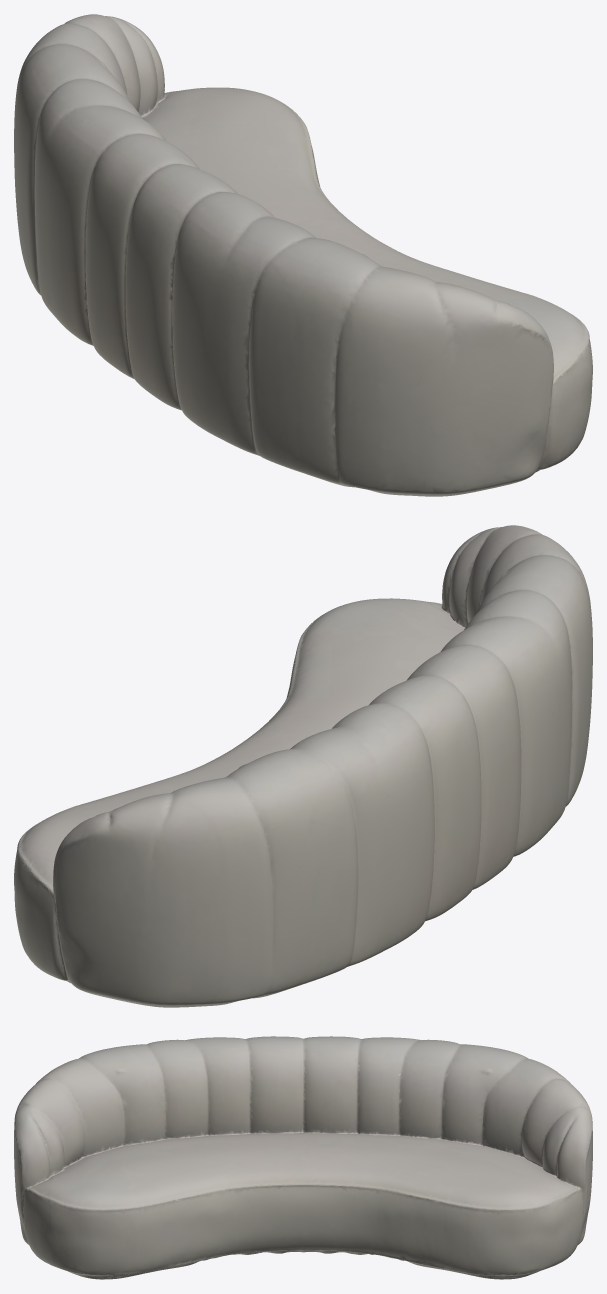
File: canape.glb
3 renders of one model, top to bottom at view 1: azimuth 30°, elevation 25°; view 2: azimuth 150°, elevation 25°; view 3: azimuth 270°, elevation 25°, orthographic. The views are drawn at different scales.
Visible parts, largest first — view 1: tripo_node_9c2c9089-5148-4cf1-a3ea-574a82360a25; view 2: tripo_node_9c2c9089-5148-4cf1-a3ea-574a82360a25; view 3: tripo_node_9c2c9089-5148-4cf1-a3ea-574a82360a25.
Part boxes in pixels (bbox=[...]): tripo_node_9c2c9089-5148-4cf1-a3ea-574a82360a25: bbox=[14, 14, 592, 496]; tripo_node_9c2c9089-5148-4cf1-a3ea-574a82360a25: bbox=[14, 525, 592, 1007]; tripo_node_9c2c9089-5148-4cf1-a3ea-574a82360a25: bbox=[14, 1036, 592, 1279].
Size of the model in its own units: 0.4403 by 0.3001 by 1.
Materials: 1 (1 with a texture image).
